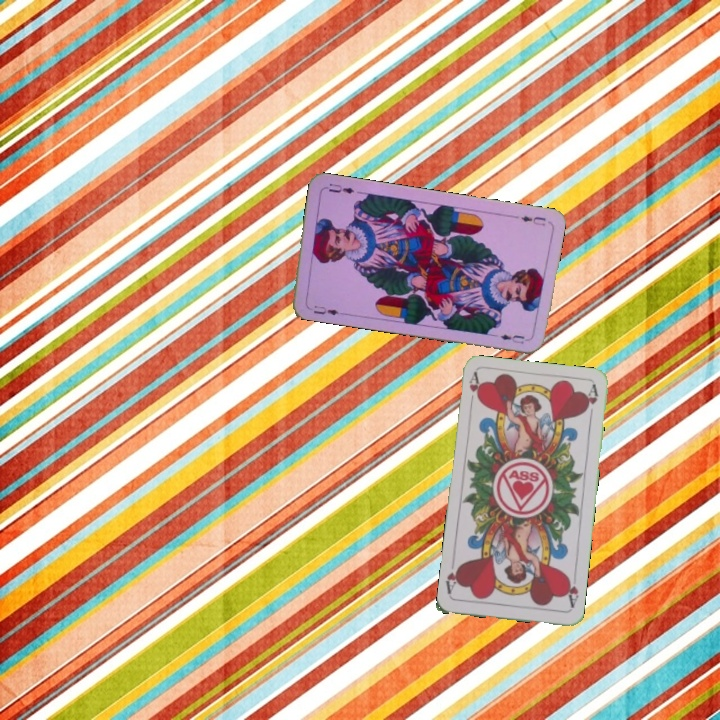EU: (304, 301, 345, 318), (517, 212, 548, 229)
HA: (562, 572, 581, 611), (465, 369, 483, 410)
